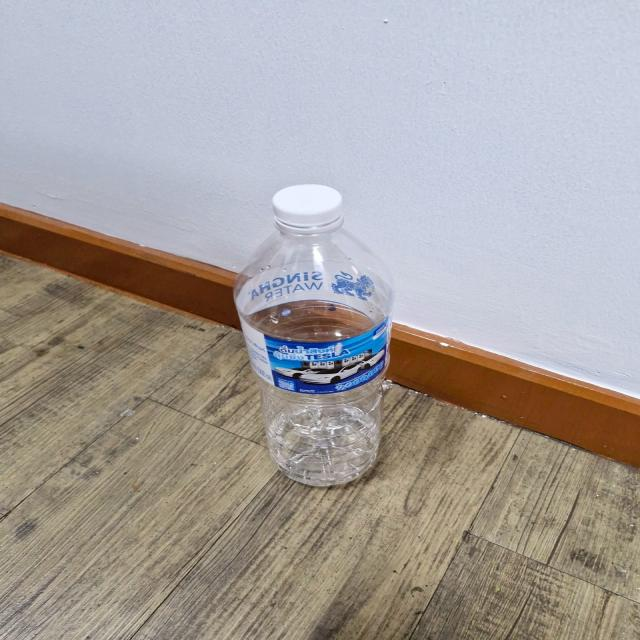plastic bottle: (204, 178, 418, 490)
